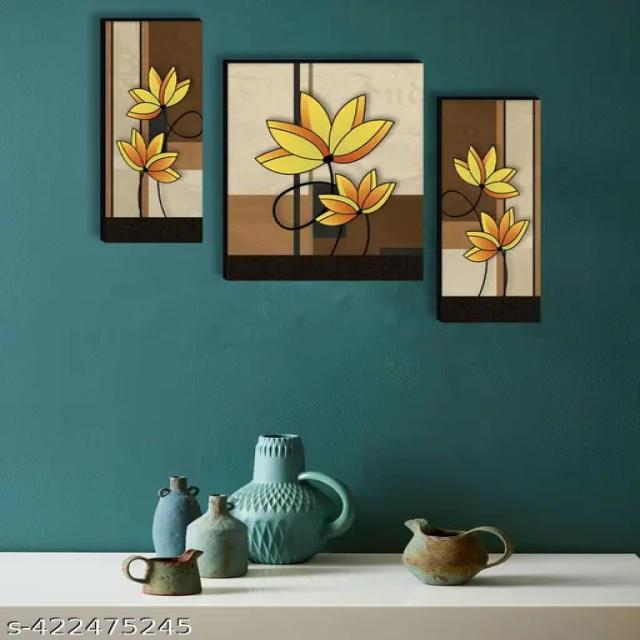painting: (229, 61, 422, 279), (441, 97, 543, 322), (103, 18, 204, 243)
